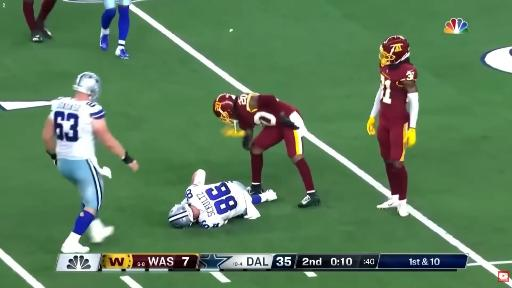Helmet: (379, 36, 409, 66), (73, 72, 101, 101), (214, 94, 237, 124), (168, 204, 194, 228)
Jersey: (49, 98, 105, 159), (186, 182, 248, 228), (379, 63, 417, 126), (236, 94, 298, 129)
Player: (43, 72, 138, 253), (214, 93, 320, 207), (367, 36, 418, 216), (168, 170, 277, 228), (100, 0, 131, 59), (23, 0, 56, 42)
